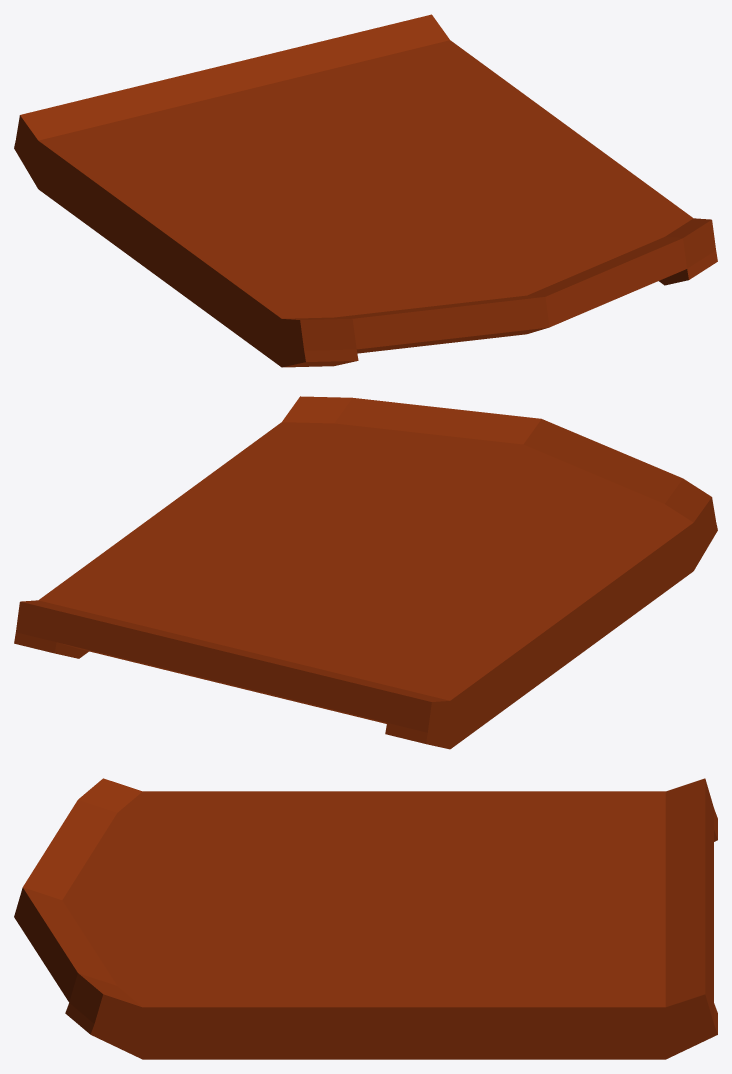
File: PROP_woodBoat.FBX
3 views of the same model, one above another, from view 1: azimuth 30°, elevation 25°; view 2: azimuth 150°, elevation 25°; view 3: azimuth 270°, elevation 25° (orthographic). The views are drawn at different scales.
Parts seen in each view (by area): view 1: barcalegno2; view 2: barcalegno2; view 3: barcalegno2.
Boxes of the visible parts, bbox=[...] form: barcalegno2: bbox=[14, 14, 717, 367]; barcalegno2: bbox=[14, 396, 717, 749]; barcalegno2: bbox=[14, 778, 717, 1059].
Bounding box in the file's own units: 1.57 × 0.2224 × 2.17.
